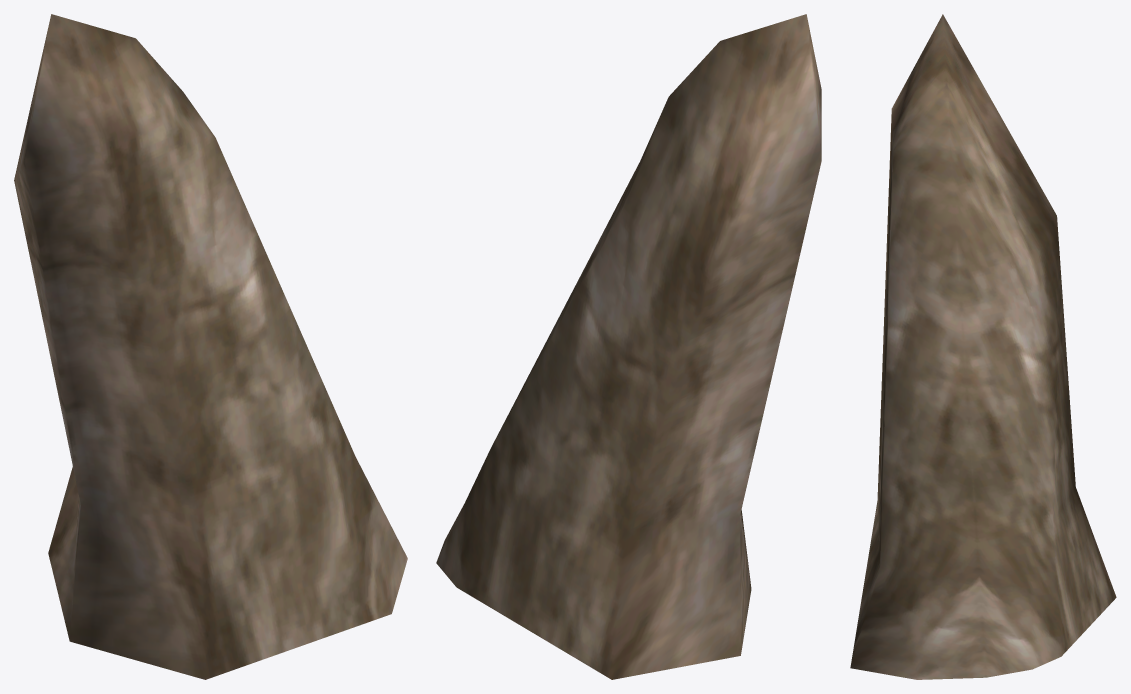
The model's file is OVERHILL_A_01_ROCK36.fbx.
The picture shows the model from 3 angles, left to right: view 1: azimuth 30°, elevation 25°; view 2: azimuth 150°, elevation 25°; view 3: azimuth 270°, elevation 25°; orthographic projection. The views are drawn at different scales.
Visible parts, largest first — view 1: OVERHILL_A_01_ROCK36; view 2: OVERHILL_A_01_ROCK36; view 3: OVERHILL_A_01_ROCK36.
Part boxes in pixels (x1=…): OVERHILL_A_01_ROCK36: x1=14, y1=14, x2=407, y2=679; OVERHILL_A_01_ROCK36: x1=436, y1=14, x2=821, y2=679; OVERHILL_A_01_ROCK36: x1=850, y1=14, x2=1116, y2=679.
Bounding box in the file's own units: 43585 × 73989 × 32009.
1 material, 1 textured.
